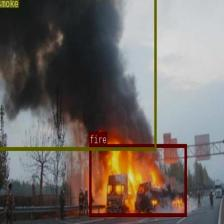fire: (89, 143, 186, 216)
smoke: (0, 0, 156, 149)
